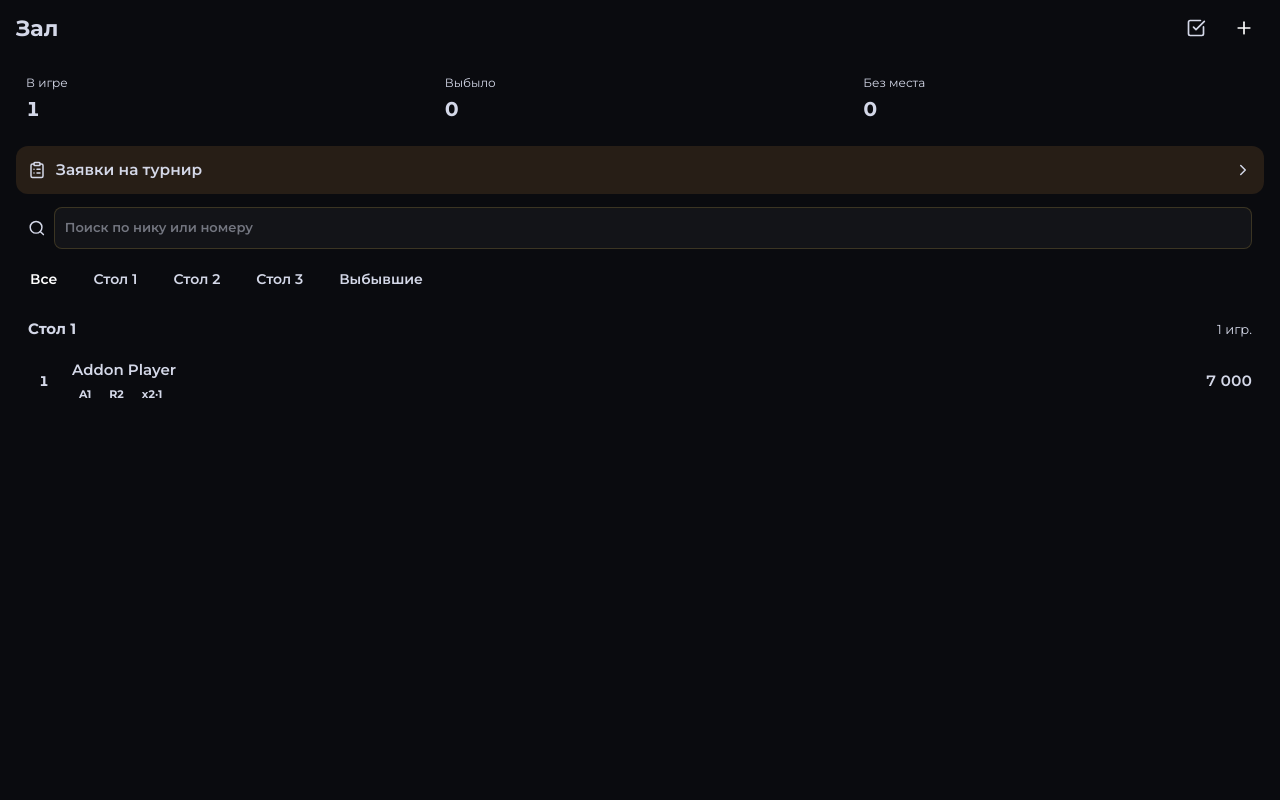
Test: TMAPlayersPage › shows the rebuys and the double rebuys the player took apart
Click the button "1 Addon Player A1 R2 x2·1 7 000". click: (124, 369)
box: [16, 350, 1264, 412]
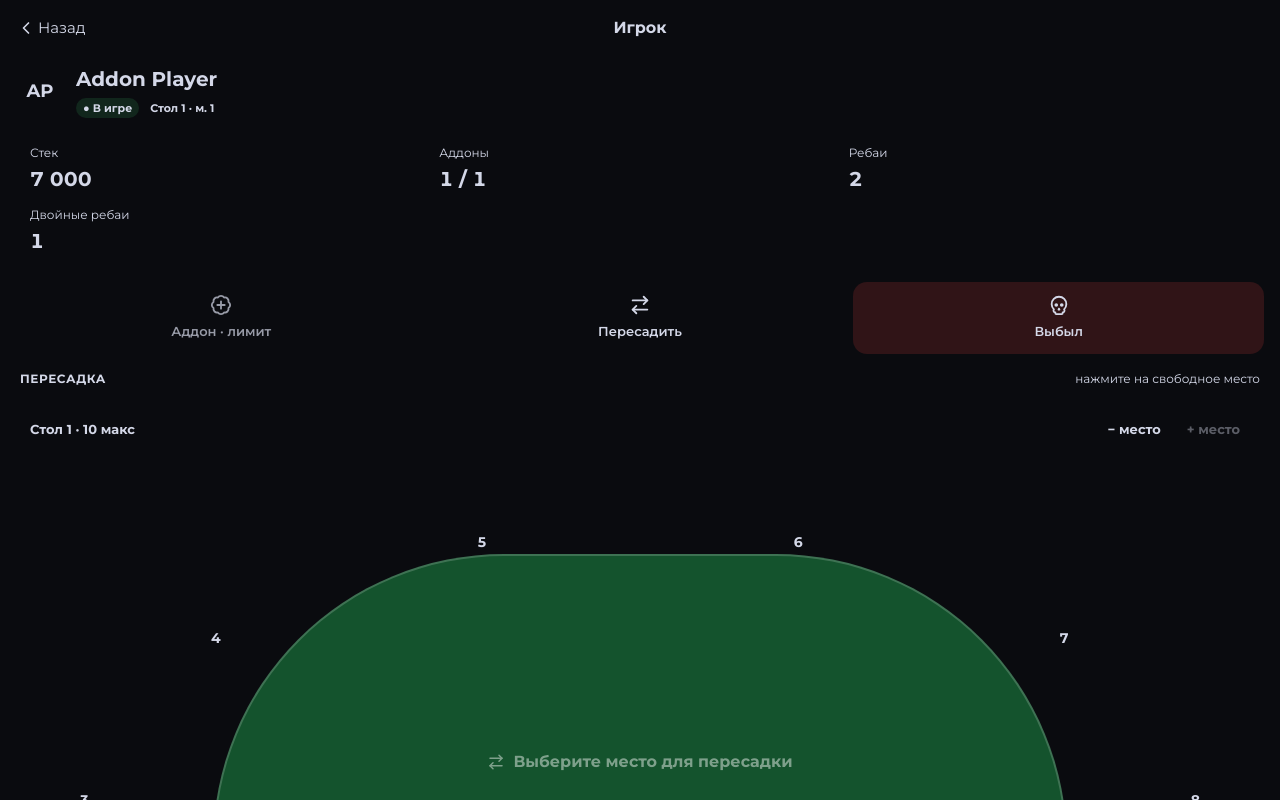
expect the text "1" is shown: met, box [30, 229, 44, 253]
expect the text "2" is shown: met, box [849, 167, 863, 191]
